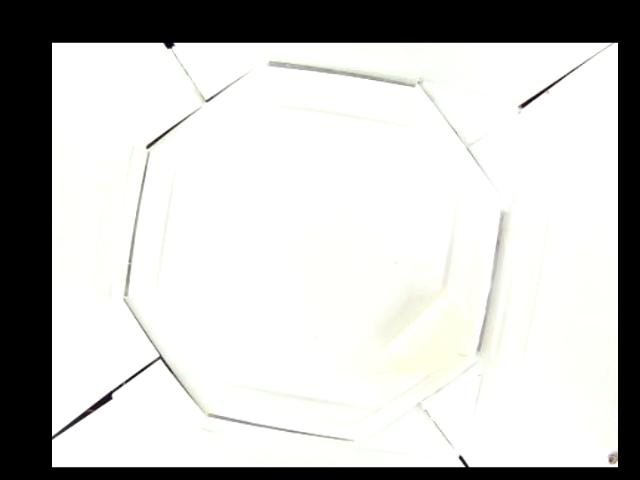Mooli: (378, 286, 468, 375)
